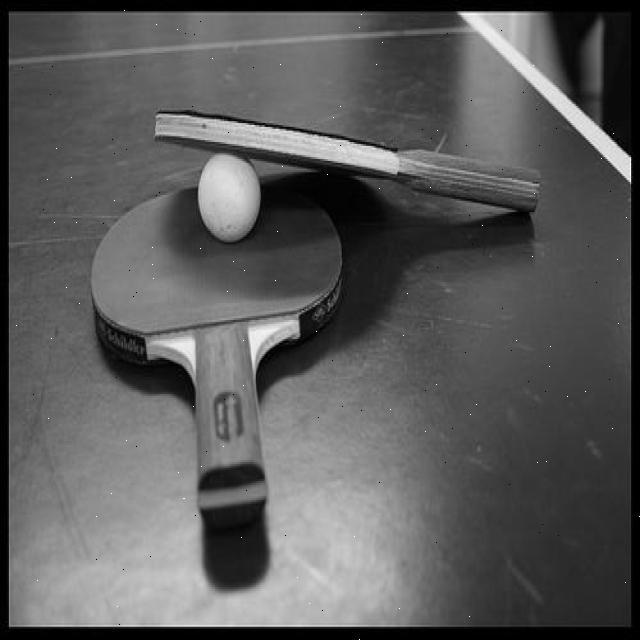ping-pong-ball: (198, 148, 262, 246)
